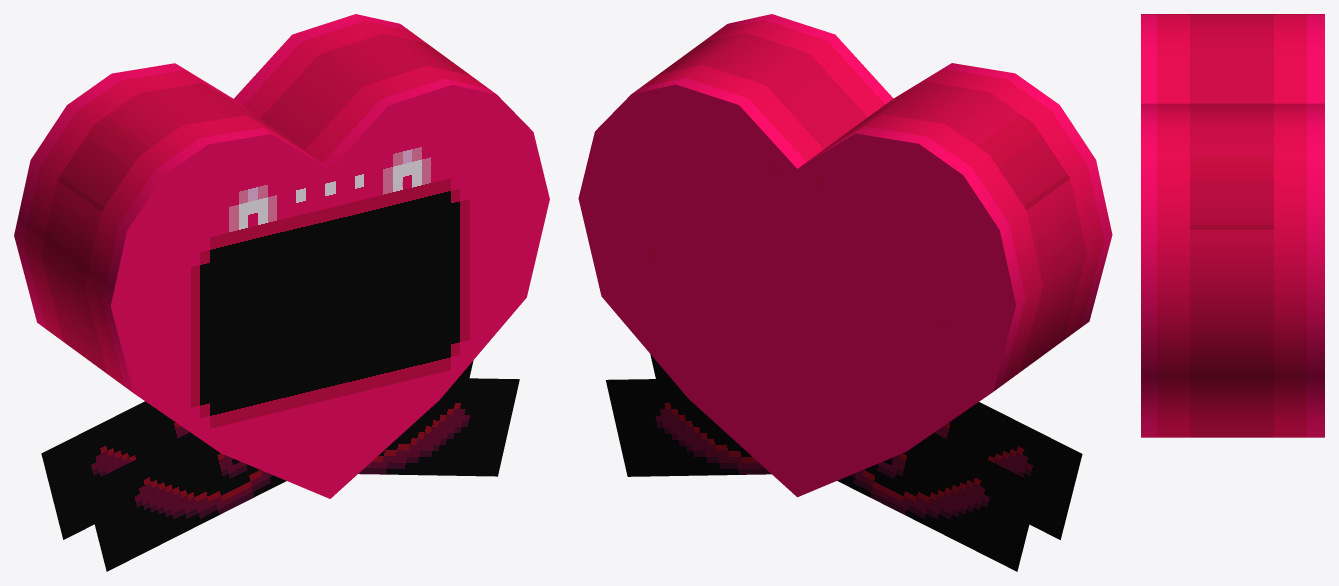
3 views of the same model, side by side, from view 1: azimuth 30°, elevation 25°; view 2: azimuth 150°, elevation 25°; view 3: azimuth 270°, elevation 25° (orthographic). The views are drawn at different scales.
Parts seen in each view (by area): view 1: 3828kg3_ser09; view 2: 3828kg3_ser09; view 3: 3828kg3_ser09.
Part boxes in pixels (<box>): 3828kg3_ser09: <box>14,14,549,571</box>; 3828kg3_ser09: <box>578,14,1112,571</box>; 3828kg3_ser09: <box>1141,14,1324,437</box>.
Size of the model in its own units: 0.8784 by 0.822 by 0.3347.
Materials: 4 (4 with a texture image).
